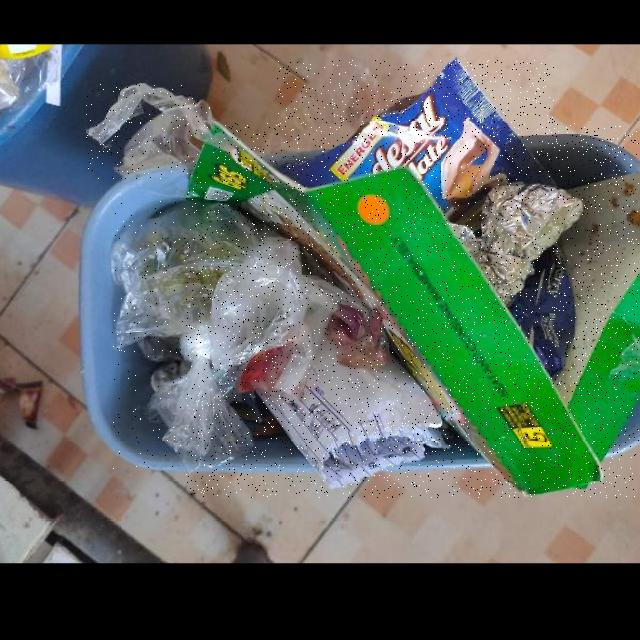metal: (452, 182, 583, 302)
paper: (186, 123, 640, 498), (257, 341, 451, 489)
plastic: (111, 202, 384, 470), (87, 83, 213, 179)
wrapper: (277, 60, 555, 238), (506, 248, 577, 380)
